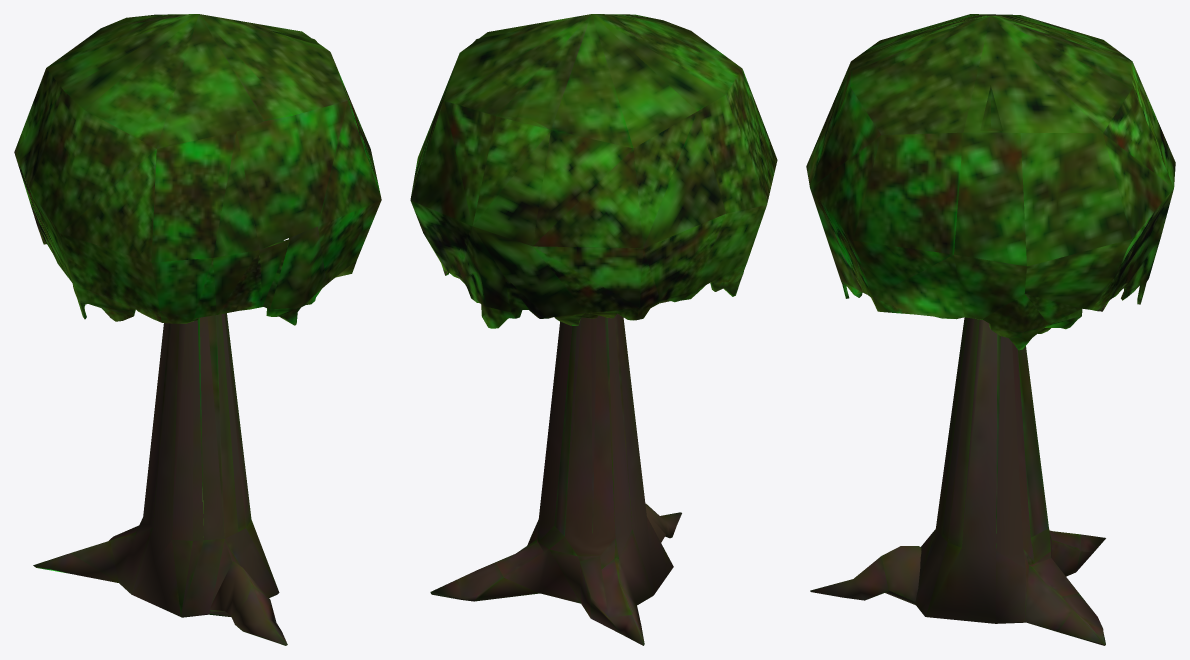
The model's file is tree.glb.
3 views of the same model, side by side, from view 1: azimuth 30°, elevation 25°; view 2: azimuth 150°, elevation 25°; view 3: azimuth 270°, elevation 25° (orthographic). The views are drawn at different scales.
Visible parts, largest first — view 1: Mesh_0; view 2: Mesh_0; view 3: Mesh_0.
Part boxes in pixels (x1,y1,x2,y2): Mesh_0: [14, 14, 381, 645]; Mesh_0: [410, 14, 777, 645]; Mesh_0: [806, 14, 1175, 645].
Size of the model in its own units: 1.1 by 1.91 by 1.1.
1 material, 1 textured.
